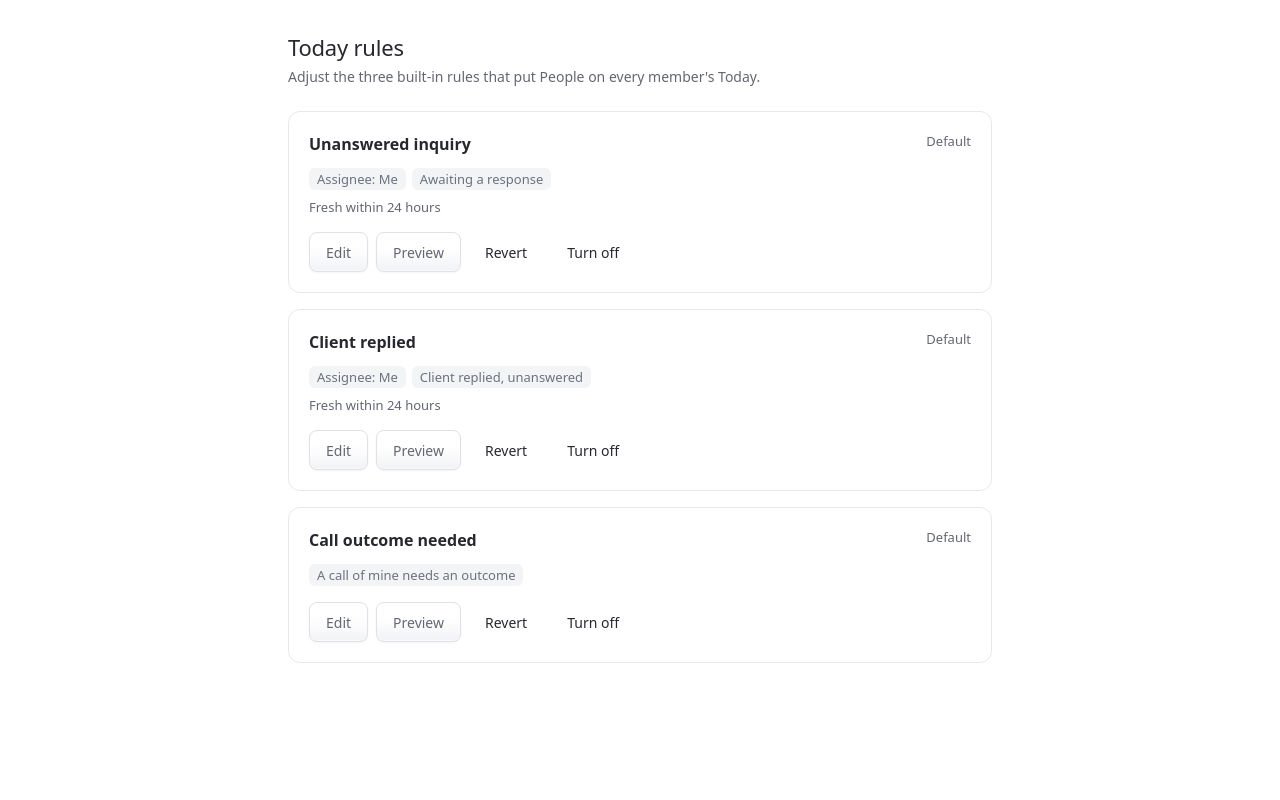
Test: TodayFeedsView preview (SLICE_011d §4, §6) › previews for the admin by default and shows the honest empty state
Click the button with test id "feed-preview-unanswered_inquiry": (419, 252) [376,232,461,272]
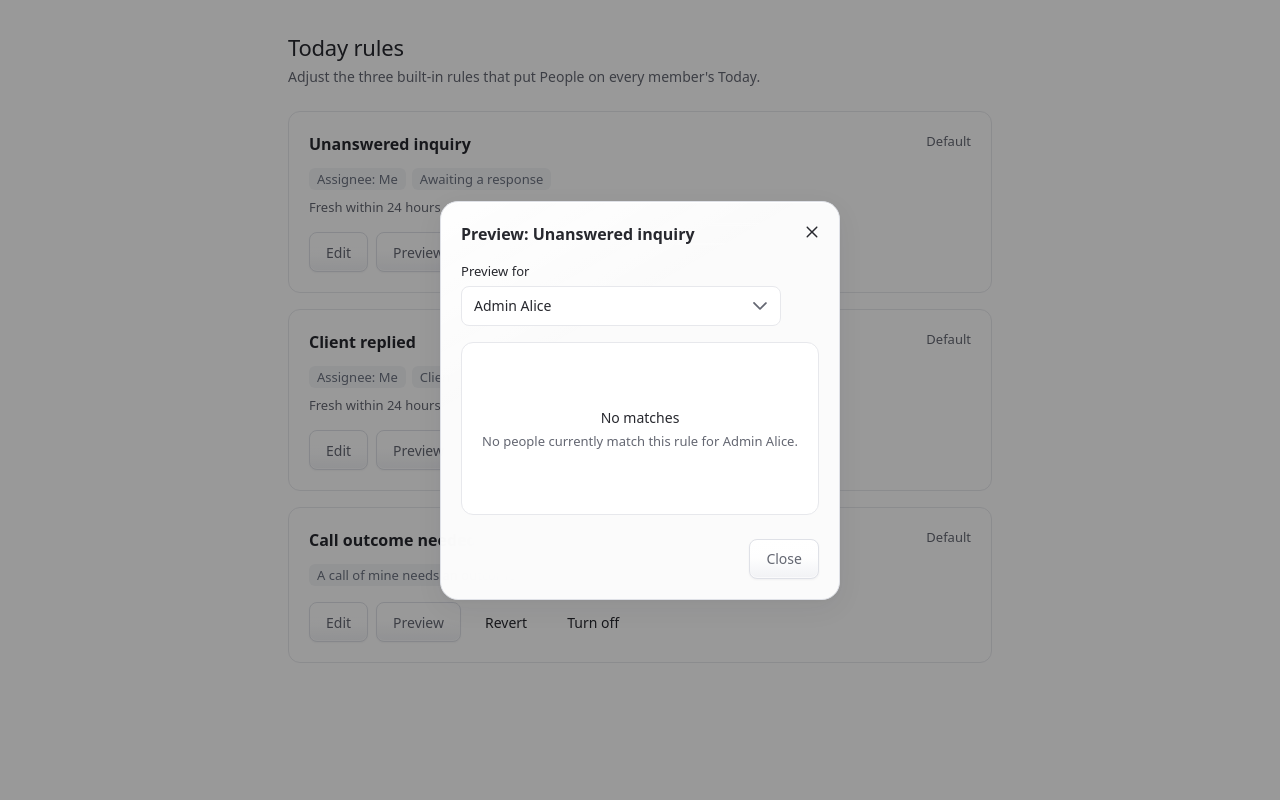
Expected: the text "No matches" is shown, [601,406,679,428]
Expected: the text "Admin Alice" is shown, [474,295,551,316]
